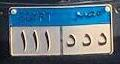1: (18, 29, 28, 52), (43, 29, 52, 53), (31, 30, 40, 53)
daal: (95, 30, 108, 49), (81, 32, 93, 50), (65, 32, 77, 48)
